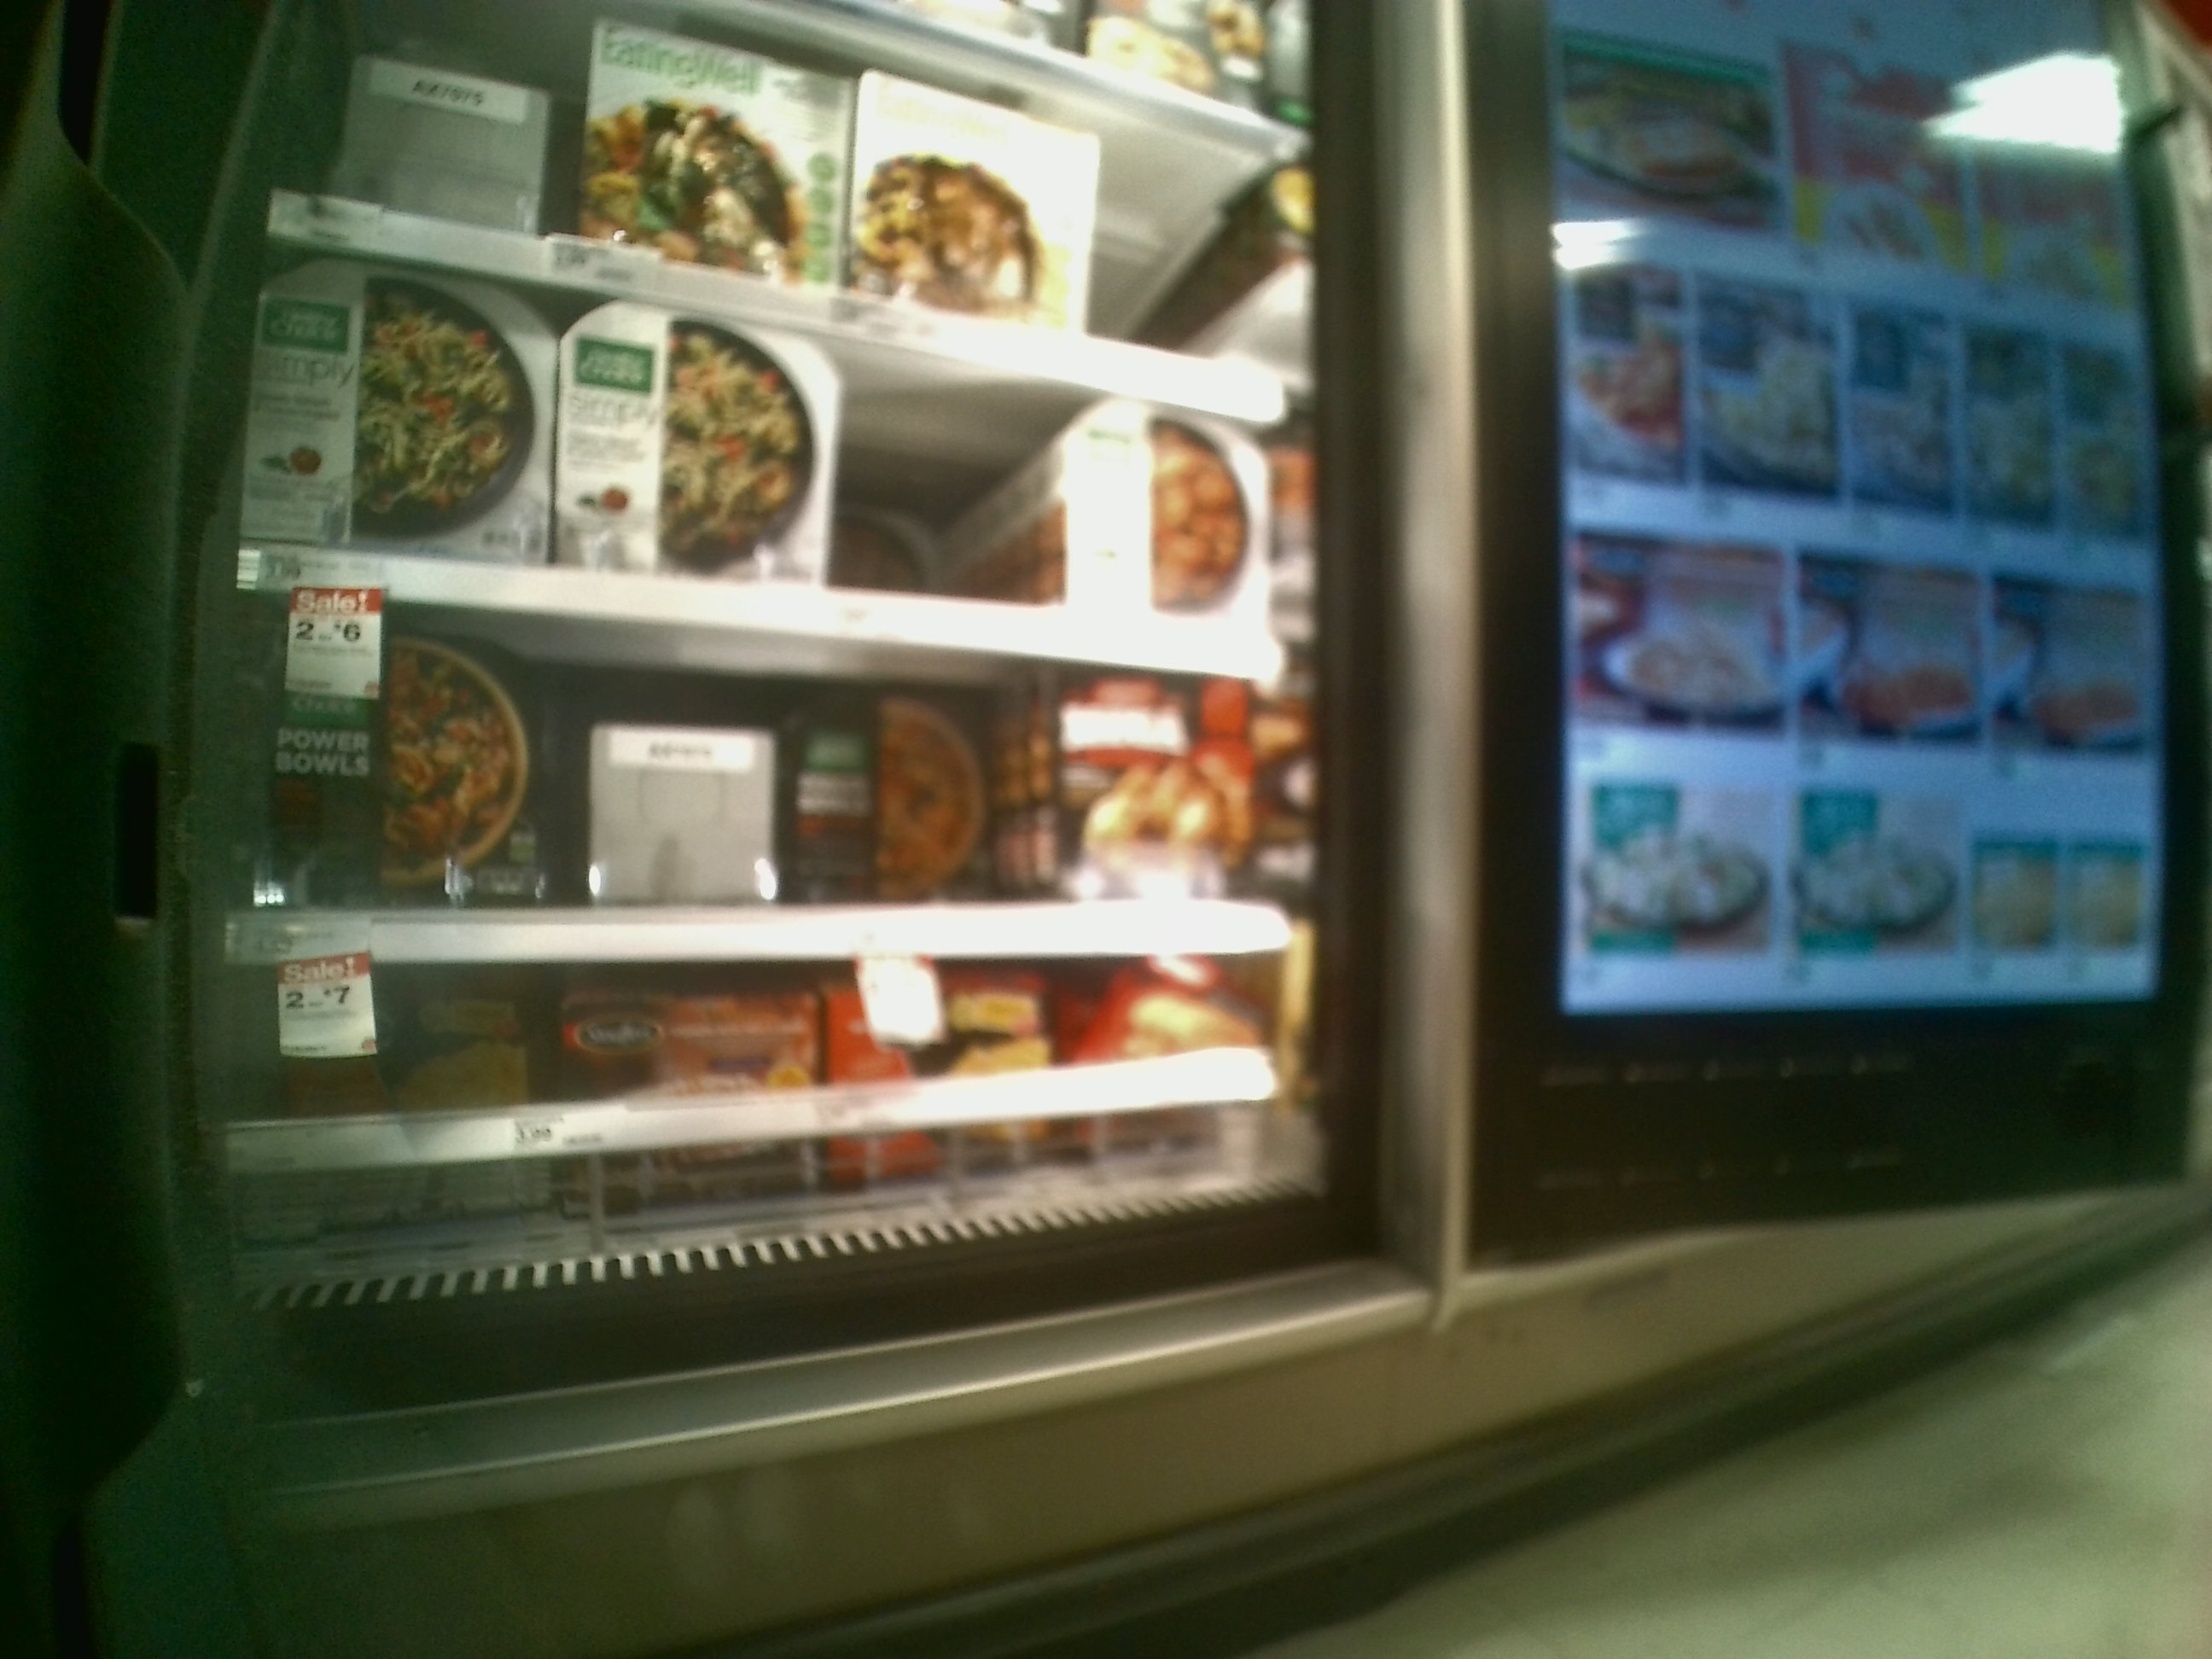pizza: (249, 244, 547, 563), (258, 647, 552, 911), (563, 310, 834, 582), (582, 28, 833, 261), (853, 84, 1094, 315), (1057, 673, 1261, 897), (1062, 406, 1254, 612), (798, 708, 981, 873)
